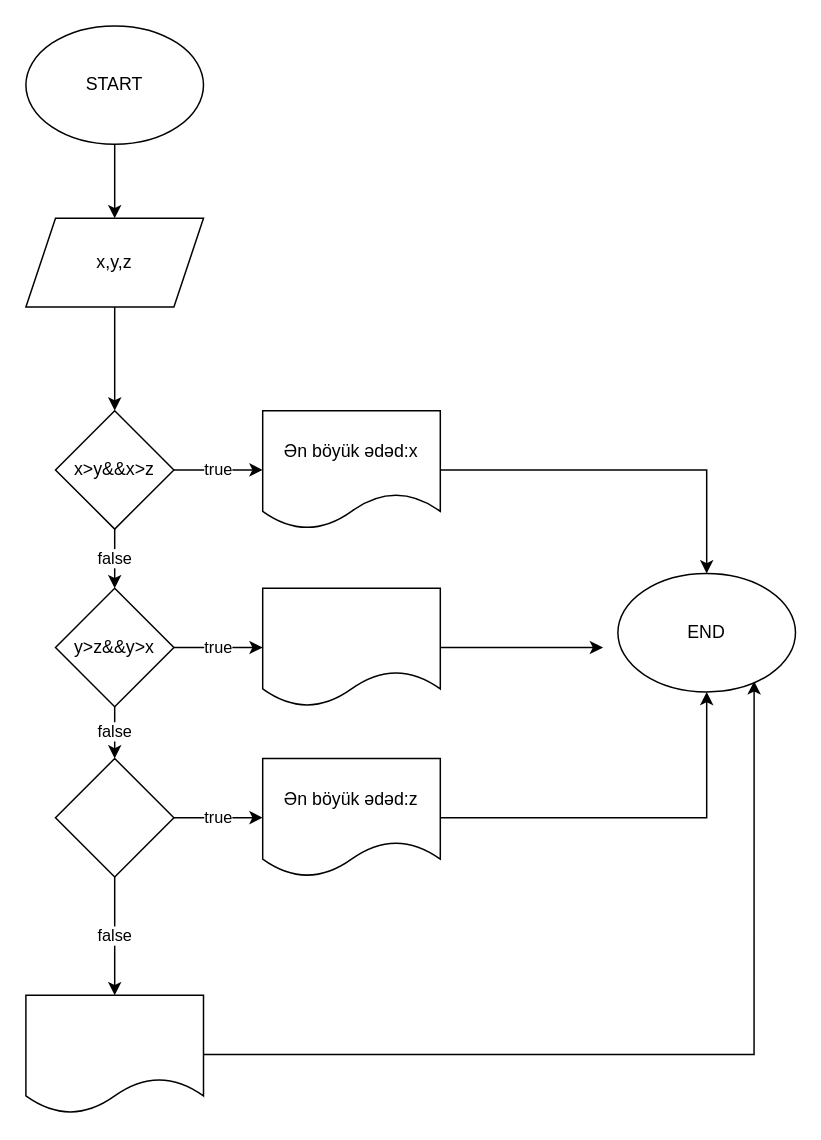
This 821x1140 diagram has some shape labels left out. Each missing label, with the box of its shape:
2 ədəd bir birinə bərabərdi: (24, 994, 204, 1114)
z>y&&z>x: (54, 757, 174, 877)
Ən böyük ədəd:y: (261, 587, 440, 707)
